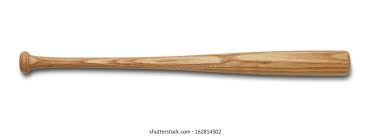bat: (18, 49, 353, 79)
